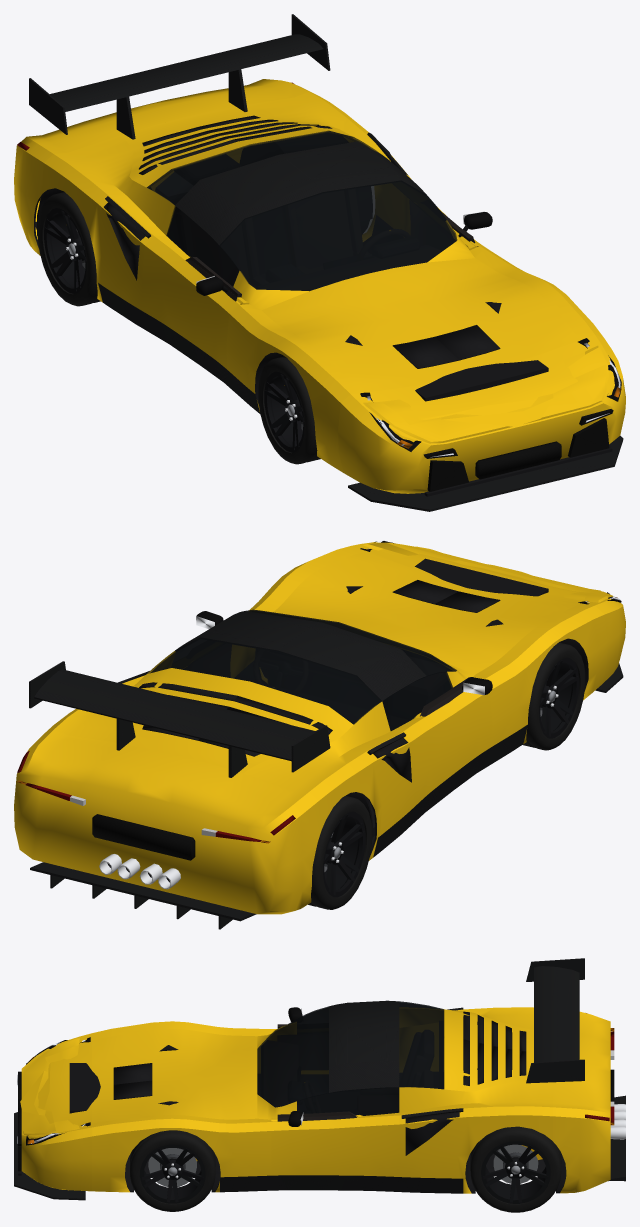
File: CAR_Supercar_LOD1.fbx
The picture shows the model from 3 angles, top to bottom: view 1: azimuth 30°, elevation 25°; view 2: azimuth 150°, elevation 25°; view 3: azimuth 270°, elevation 25°; orthographic projection. The views are drawn at different scales.
Parts seen in each view (by area): view 1: CAR_LOD1_Body, CAR_LOD1_Wheel_RR, CAR_LOD1_Wheel_FR; view 2: CAR_LOD1_Body, CAR_LOD1_Wheel_RR, CAR_LOD1_Wheel_FR; view 3: CAR_LOD1_Body, CAR_LOD1_Wheel_RL, CAR_LOD1_Wheel_FL.
Part boxes in pixels (<box>): CAR_LOD1_Body: <box>14,14,625,511</box>; CAR_LOD1_Wheel_RR: <box>37,192,100,306</box>; CAR_LOD1_Wheel_FR: <box>258,356,320,464</box>; CAR_LOD1_Body: <box>14,540,625,929</box>; CAR_LOD1_Wheel_RR: <box>308,795,372,909</box>; CAR_LOD1_Wheel_FR: <box>523,642,585,750</box>; CAR_LOD1_Body: <box>14,958,625,1200</box>; CAR_LOD1_Wheel_RL: <box>470,1126,561,1212</box>; CAR_LOD1_Wheel_FL: <box>130,1130,215,1211</box>.
Size of the model in its own units: 2.09 by 1.3 by 4.78.
20 materials, 2 textured.
